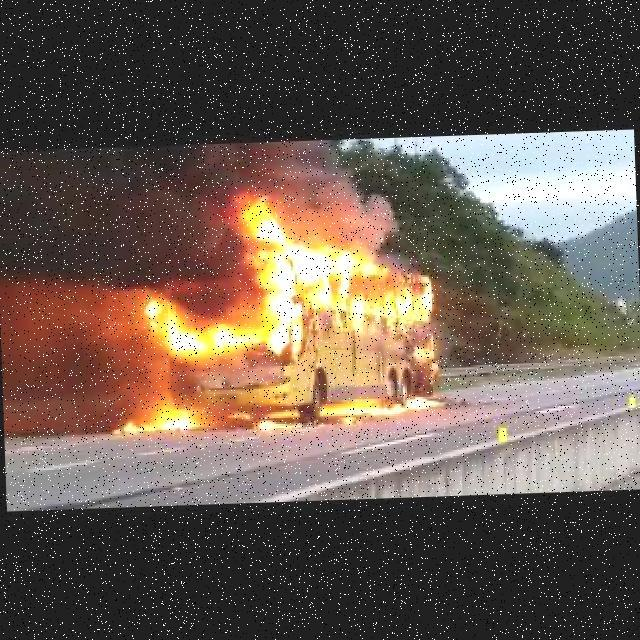Fire: (240, 191, 433, 357), (140, 299, 246, 361), (101, 406, 204, 436), (323, 394, 445, 414), (411, 334, 438, 377), (256, 417, 306, 431), (263, 407, 299, 418), (226, 411, 250, 420)
